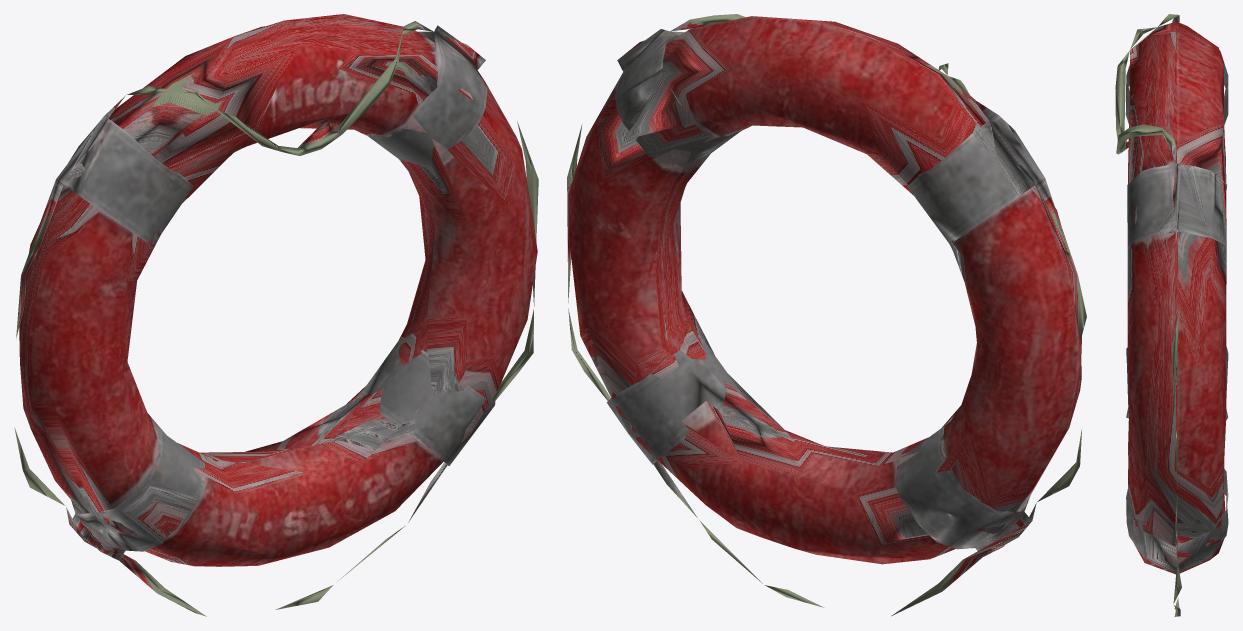
File: lifebuoy.gltf
The picture shows the model from 3 angles, left to right: view 1: azimuth 30°, elevation 25°; view 2: azimuth 150°, elevation 25°; view 3: azimuth 270°, elevation 25°; orthographic projection. The views are drawn at different scales.
Bounding box in the file's own units: 0.7701 × 0.8303 × 0.1544.
Materials: 1 (1 with a texture image).
